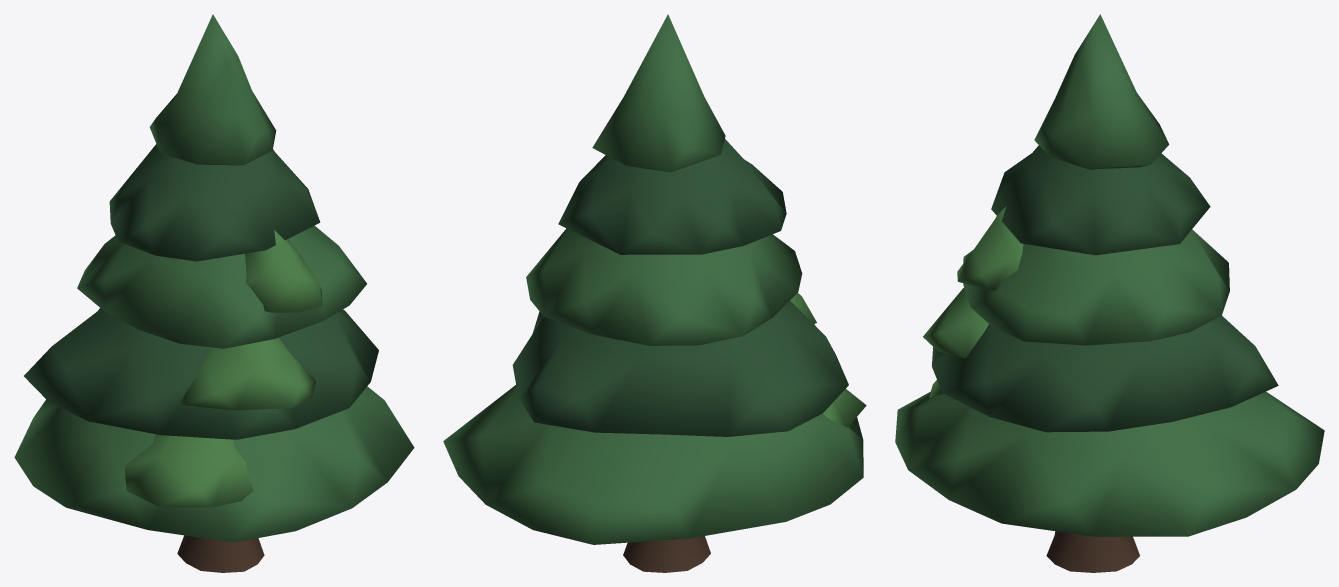
File: tree_pine_2.obj
3 views of the same model, side by side, from view 1: azimuth 30°, elevation 25°; view 2: azimuth 150°, elevation 25°; view 3: azimuth 270°, elevation 25° (orthographic).
Visible parts, largest first — view 1: tree_pine_2_component_02_stage_1, tree_pine_2_component_03_stage_1, tree_pine_2_component_04_stage_1, tree_pine_2_component_05_stage_1, tree_pine_2_component_06_stage_1, tree_pine_2_component_07_stage_1, tree_pine_2_component_08_stage_1, tree_pine_2_component_09_stage_1, tree_pine_2_component_01_stage_1; view 2: tree_pine_2_component_02_stage_1, tree_pine_2_component_03_stage_1, tree_pine_2_component_04_stage_1, tree_pine_2_component_05_stage_1, tree_pine_2_component_06_stage_1, tree_pine_2_component_01_stage_1, tree_pine_2_component_07_stage_1; view 3: tree_pine_2_component_02_stage_1, tree_pine_2_component_03_stage_1, tree_pine_2_component_04_stage_1, tree_pine_2_component_05_stage_1, tree_pine_2_component_06_stage_1, tree_pine_2_component_01_stage_1, tree_pine_2_component_09_stage_1, tree_pine_2_component_08_stage_1.
Boxes of the visible parts, box(x1,y1,x2,y2) form: tree_pine_2_component_02_stage_1: box(14, 386, 414, 542); tree_pine_2_component_03_stage_1: box(24, 308, 378, 439); tree_pine_2_component_04_stage_1: box(77, 225, 366, 348); tree_pine_2_component_05_stage_1: box(109, 144, 320, 261); tree_pine_2_component_06_stage_1: box(149, 14, 276, 165); tree_pine_2_component_07_stage_1: box(124, 434, 253, 507); tree_pine_2_component_08_stage_1: box(179, 337, 315, 410); tree_pine_2_component_09_stage_1: box(245, 230, 322, 312); tree_pine_2_component_01_stage_1: box(177, 535, 264, 572); tree_pine_2_component_02_stage_1: box(443, 385, 863, 544); tree_pine_2_component_03_stage_1: box(512, 301, 848, 436); tree_pine_2_component_04_stage_1: box(526, 228, 802, 345); tree_pine_2_component_05_stage_1: box(558, 139, 786, 254); tree_pine_2_component_06_stage_1: box(592, 14, 725, 172); tree_pine_2_component_01_stage_1: box(623, 536, 710, 572); tree_pine_2_component_07_stage_1: box(823, 389, 866, 427); tree_pine_2_component_02_stage_1: box(895, 391, 1324, 536); tree_pine_2_component_03_stage_1: box(932, 315, 1278, 432); tree_pine_2_component_04_stage_1: box(963, 229, 1229, 345); tree_pine_2_component_05_stage_1: box(991, 145, 1210, 255); tree_pine_2_component_06_stage_1: box(1034, 14, 1169, 169); tree_pine_2_component_01_stage_1: box(1046, 531, 1139, 572); tree_pine_2_component_09_stage_1: box(957, 206, 1023, 290); tree_pine_2_component_08_stage_1: box(923, 287, 988, 358).
Bounding box in the file's own units: 0.7322 × 1.08 × 0.779.
